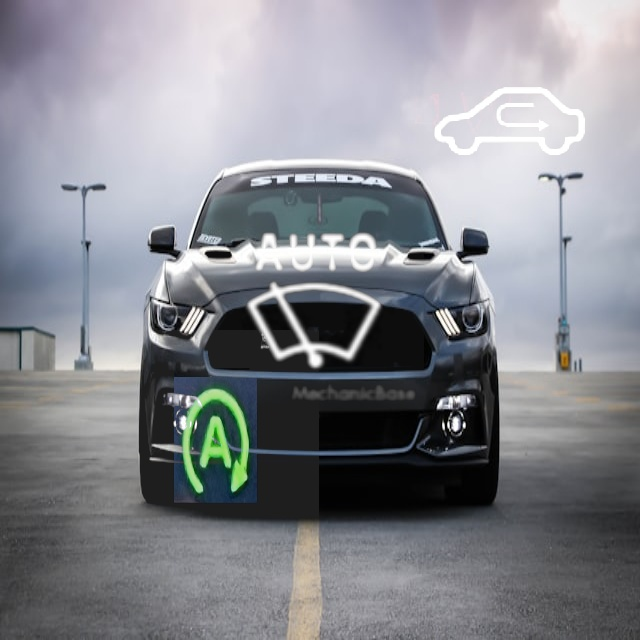symbol: (207, 194, 424, 411), (105, 330, 319, 544), (410, 24, 610, 224), (392, 22, 581, 211)
